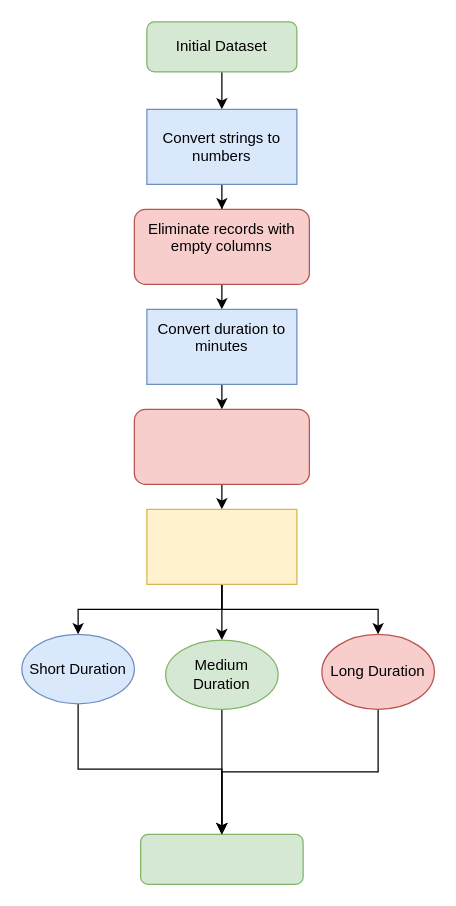
This 456x906 diagram has some shape labels left out. The shapes that lost their labels are listed below. From the top down, each one's centre as x and y in pixels, then its label:
At pixel 221 446: "Eliminate records with zero duration".
At pixel 221 546: "Apply logarithm to duration".
At pixel 221 858: "Final Dataset with 25 features and one class".
